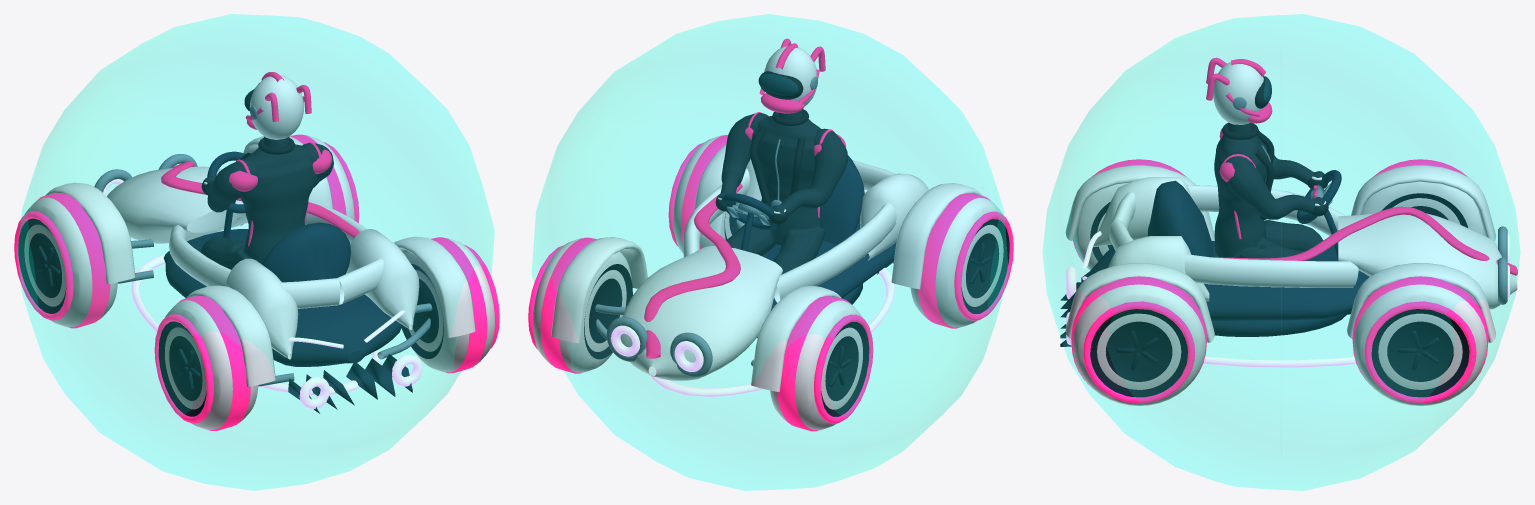
Rendered from cognara.glb.
3 views of the same model, side by side, from view 1: azimuth 30°, elevation 25°; view 2: azimuth 150°, elevation 25°; view 3: azimuth 270°, elevation 25° (orthographic).
Parts seen in each view (by area): view 1: cognara:aegis-shield, cognara:coachwork-batch.001, cognara:coachwork-batch, cognara:torso, cognara:rounded-wheel-shell, cognara:rounded-wheel-shell.002, cognara:rounded-wheel-shell.003, cognara:helmet-shell, cognara:translucent-tire-band.002, cognara:translucent-tire-band, cognara:recessed-colored-hub.002, cognara:recessed-colored-hub (+14 smaller); view 2: cognara:aegis-shield, cognara:coachwork-batch.001, cognara:torso, cognara:coachwork-batch, cognara:rounded-wheel-shell, cognara:rounded-wheel-shell.002, cognara:rounded-wheel-shell.001, cognara:cognara-neural-ribbon, cognara:arm-l-mesh, cognara:translucent-tire-band, cognara:translucent-tire-band.002, cognara:recessed-colored-hub (+19 smaller); view 3: cognara:aegis-shield, cognara:coachwork-batch.001, cognara:coachwork-batch, cognara:rounded-wheel-shell.001, cognara:rounded-wheel-shell.003, cognara:torso, cognara:recessed-colored-hub.003, cognara:recessed-colored-hub.001, cognara:rounded-wheel-shell, cognara:arm-r-mesh, cognara:wheel-light-ring.003, cognara:wheel-light-ring.001 (+10 smaller).
Part boxes in pixels (bbox=[...]): cognara:aegis-shield: bbox=[18, 14, 494, 490]; cognara:coachwork-batch.001: bbox=[46, 136, 475, 386]; cognara:coachwork-batch: bbox=[163, 200, 412, 413]; cognara:torso: bbox=[200, 136, 317, 269]; cognara:rounded-wheel-shell: bbox=[24, 197, 117, 327]; cognara:rounded-wheel-shell.002: bbox=[165, 300, 258, 429]; cognara:rounded-wheel-shell.003: bbox=[405, 238, 494, 372]; cognara:helmet-shell: bbox=[249, 75, 304, 139]; cognara:translucent-tire-band.002: bbox=[177, 296, 250, 430]; cognara:translucent-tire-band: bbox=[37, 193, 110, 328]; cognara:recessed-colored-hub.002: bbox=[158, 321, 206, 416]; cognara:recessed-colored-hub: bbox=[18, 218, 66, 313]; cognara:aegis-shield: bbox=[532, 14, 1008, 490]; cognara:coachwork-batch.001: bbox=[551, 143, 981, 391]; cognara:torso: bbox=[726, 108, 825, 274]; cognara:coachwork-batch: bbox=[741, 155, 896, 310]; cognara:rounded-wheel-shell: bbox=[770, 300, 862, 430]; cognara:rounded-wheel-shell.002: bbox=[910, 197, 1003, 327]; cognara:rounded-wheel-shell.001: bbox=[533, 238, 631, 372]; cognara:cognara-neural-ribbon: bbox=[644, 183, 742, 358]; cognara:arm-l-mesh: bbox=[772, 128, 847, 216]; cognara:translucent-tire-band: bbox=[777, 296, 850, 431]; cognara:translucent-tire-band.002: bbox=[918, 193, 990, 328]; cognara:recessed-colored-hub: bbox=[821, 322, 869, 416]; cognara:aegis-shield: bbox=[1042, 14, 1520, 490]; cognara:coachwork-batch.001: bbox=[1065, 165, 1517, 342]; cognara:coachwork-batch: bbox=[1060, 180, 1369, 346]; cognara:rounded-wheel-shell.001: bbox=[1354, 284, 1486, 405]; cognara:rounded-wheel-shell.003: bbox=[1072, 284, 1205, 405]; cognara:torso: bbox=[1214, 122, 1327, 261]; cognara:recessed-colored-hub.003: bbox=[1090, 309, 1187, 397]; cognara:recessed-colored-hub.001: bbox=[1371, 309, 1469, 397]; cognara:rounded-wheel-shell: bbox=[1362, 181, 1485, 236]; cognara:arm-r-mesh: bbox=[1223, 151, 1324, 219]; cognara:wheel-light-ring.003: bbox=[1083, 301, 1195, 403]; cognara:wheel-light-ring.001: bbox=[1364, 301, 1476, 403].
Bounding box in the file's own units: 4.3 × 4.3 × 4.3.
